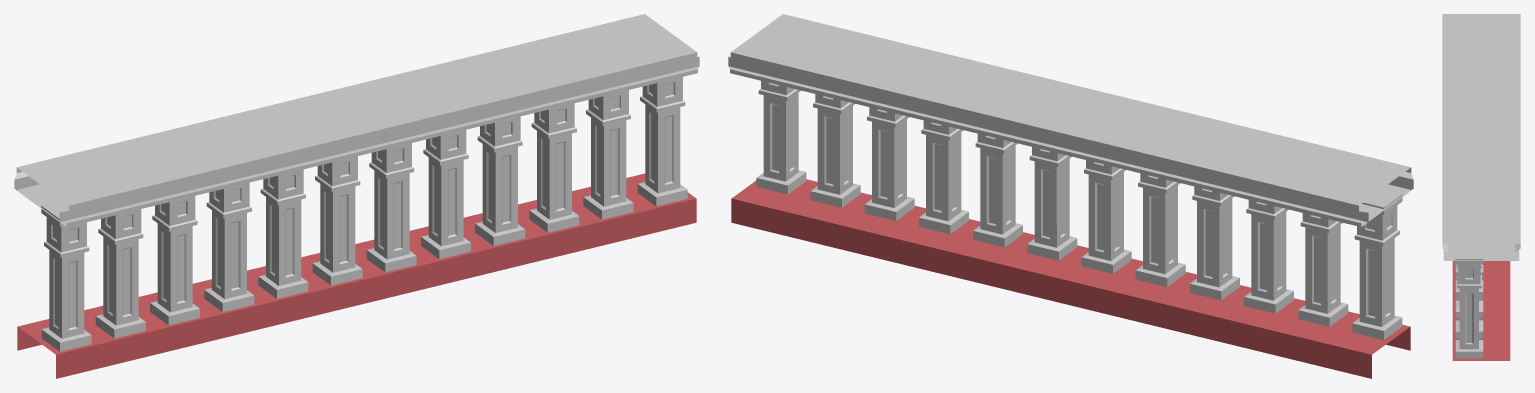
File: station_fence_center.fbx
3 views of the same model, side by side, from view 1: azimuth 30°, elevation 25°; view 2: azimuth 150°, elevation 25°; view 3: azimuth 270°, elevation 25° (orthographic). The views are drawn at different scales.
Parts seen in each view (by area): view 1: fence_center; view 2: fence_center; view 3: fence_center.
Part boxes in pixels (x1,y1,x2,y2): fence_center: [14, 14, 699, 378]; fence_center: [728, 14, 1413, 378]; fence_center: [1442, 14, 1520, 360].
Bounding box in the file's own units: 2.8 × 0.739 × 0.3969.
